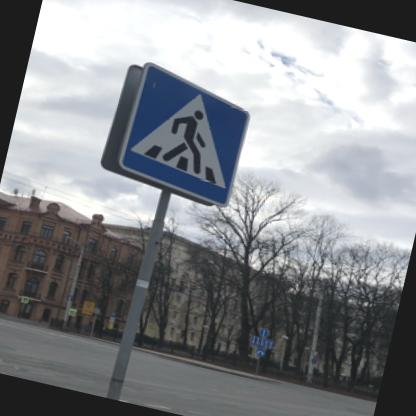crosswalk: (112, 59, 256, 209)
